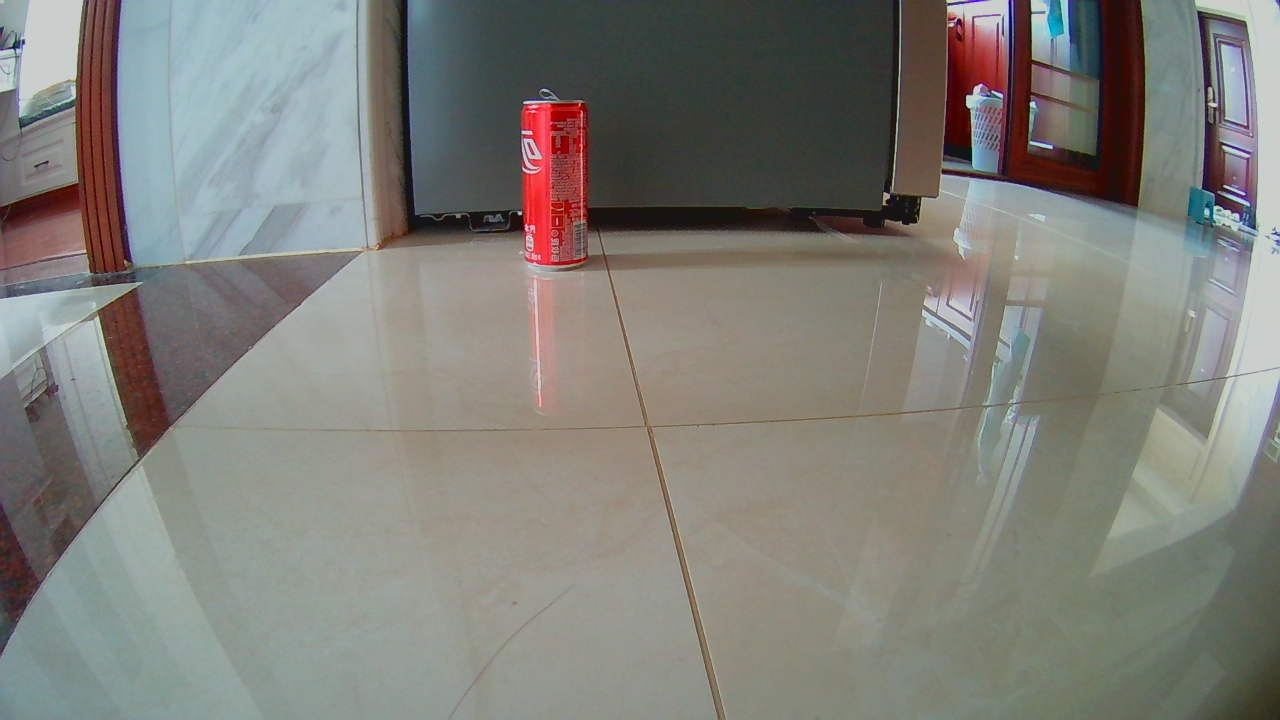cola: (520, 98, 591, 267)
